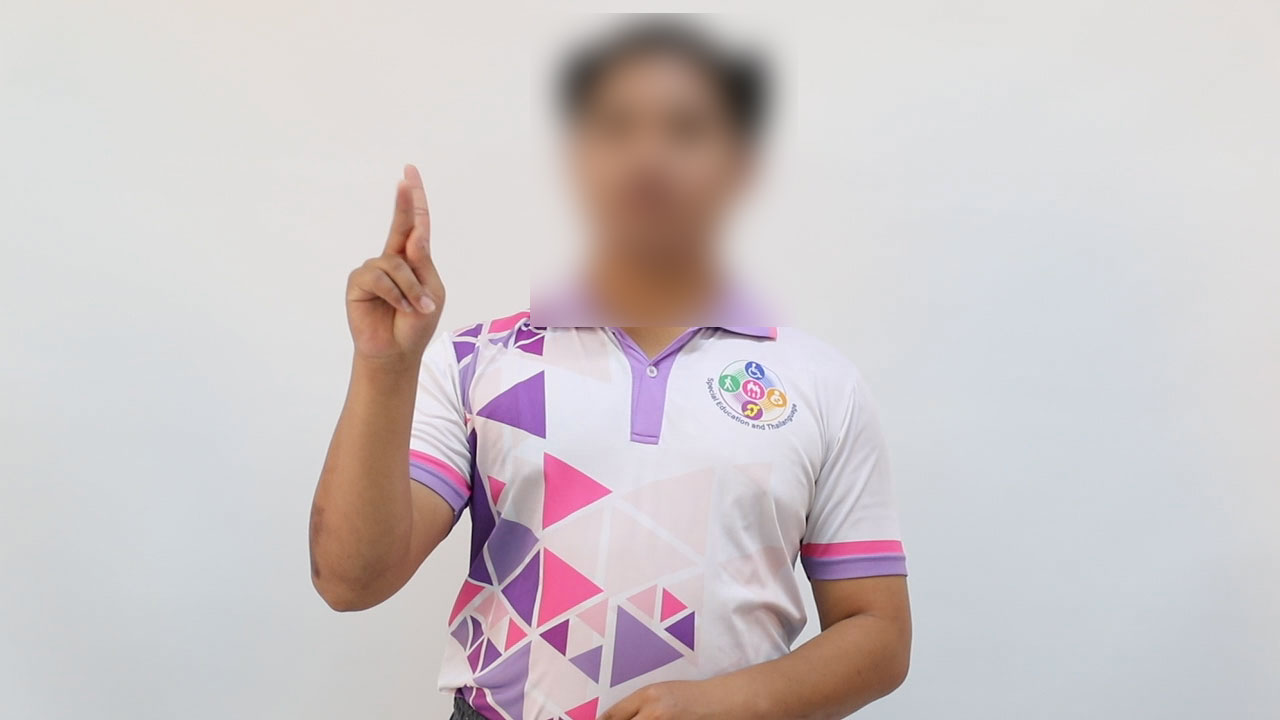ko: (328, 152, 461, 360)
